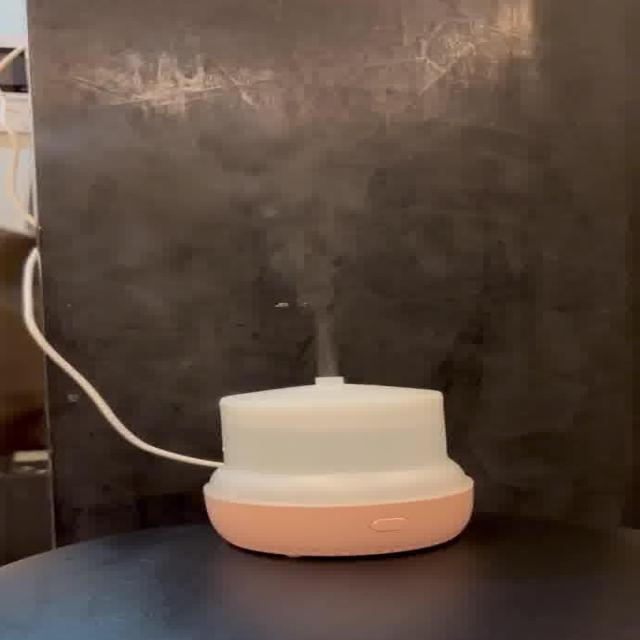fire: (264, 242, 358, 374)
